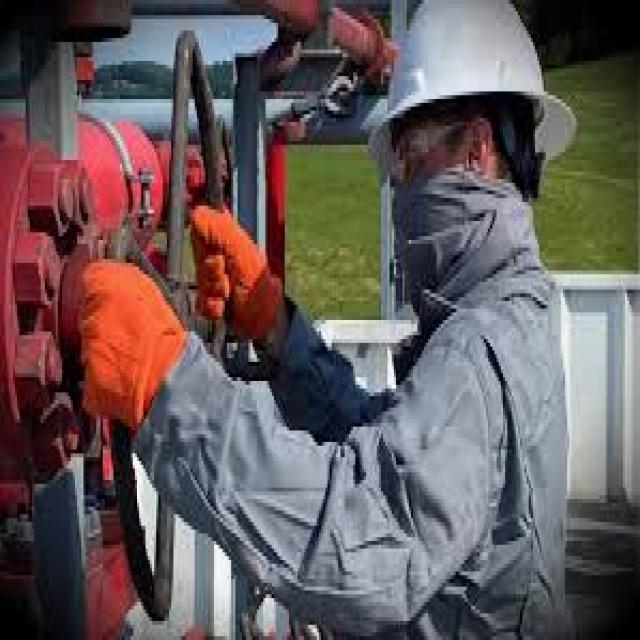Safety-Helmet: (364, 4, 571, 156)
